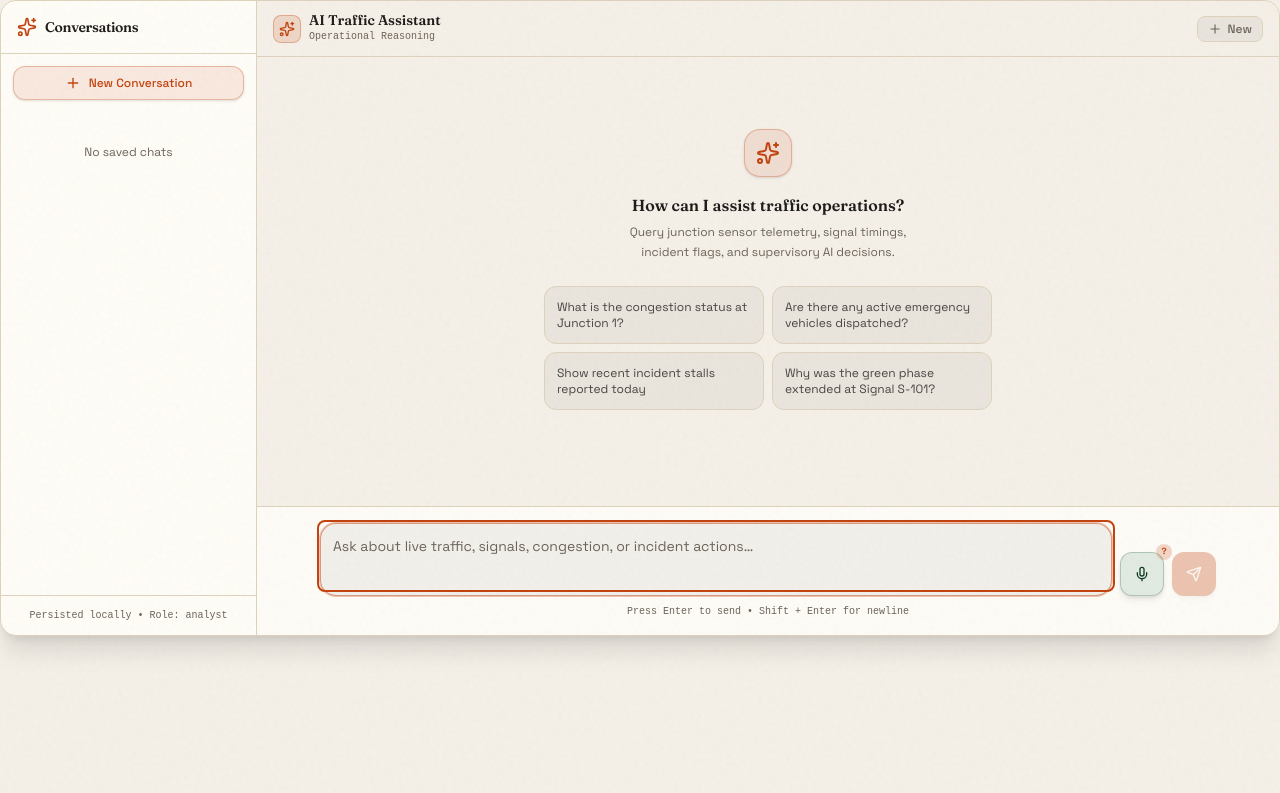
Test: AssistantChat Component (assistant.test.tsx) › renders suggested followups as clickable chips that send inquiries when clicked
The width and height of the screenshot is (1280, 793).
Replace the text in the text box with test id "assistant-composer-textarea" with "Initial query" at (716, 556), box [321,524,1111,588]
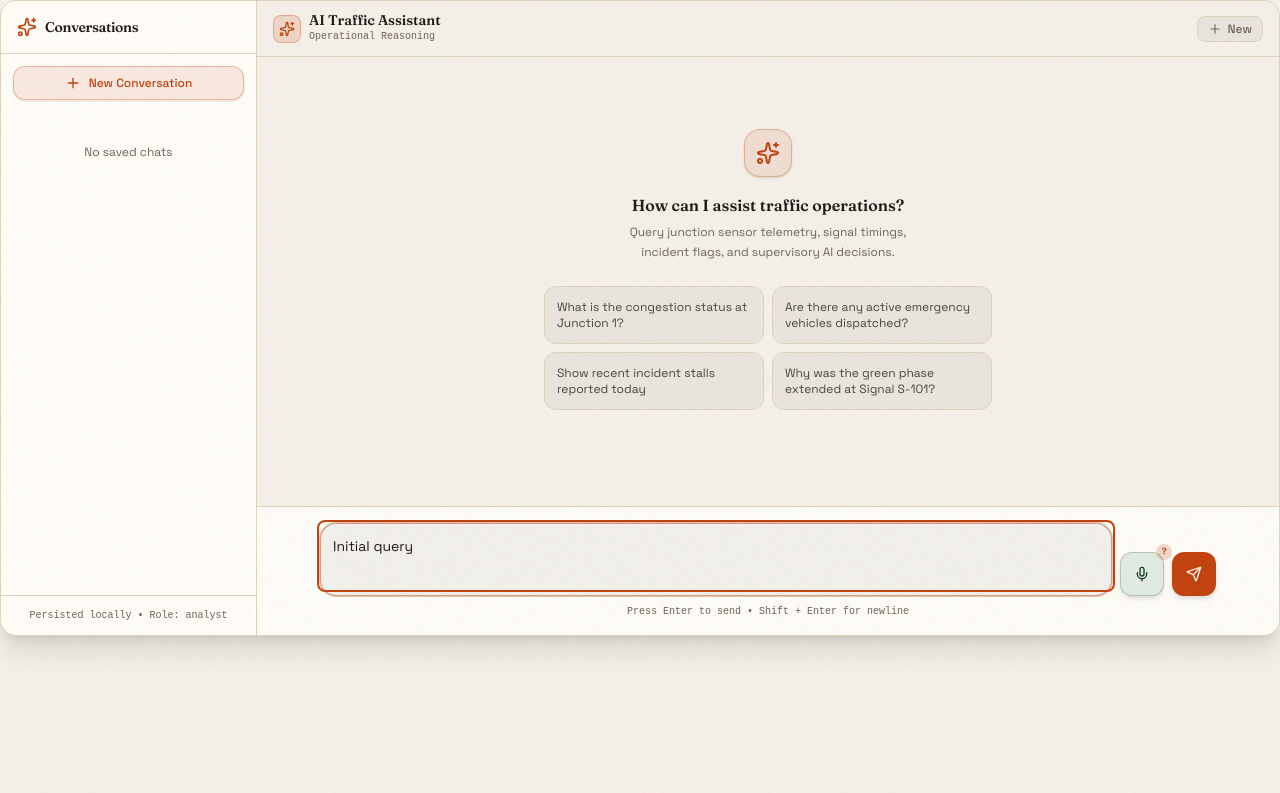
Click the button with test id "assistant-send-button" at (1194, 574), box [1172,552,1216,596]
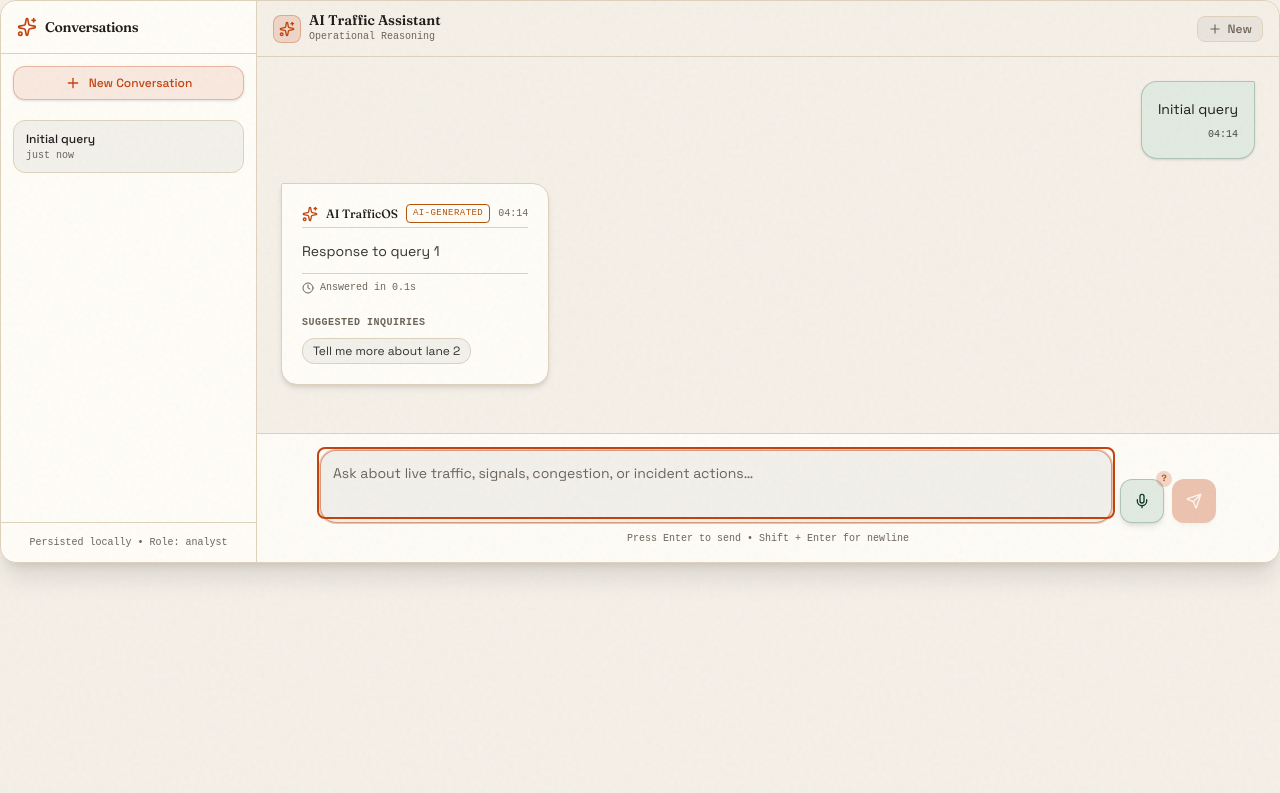
Expected: the button with test id "suggested-followup-0" is shown
Expected: the button with test id "suggested-followup-0" reads "Tell me more about lane 2"
Note: Click followup chip
Click the button with test id "suggested-followup-0" at (387, 351), box [302,338,471,364]
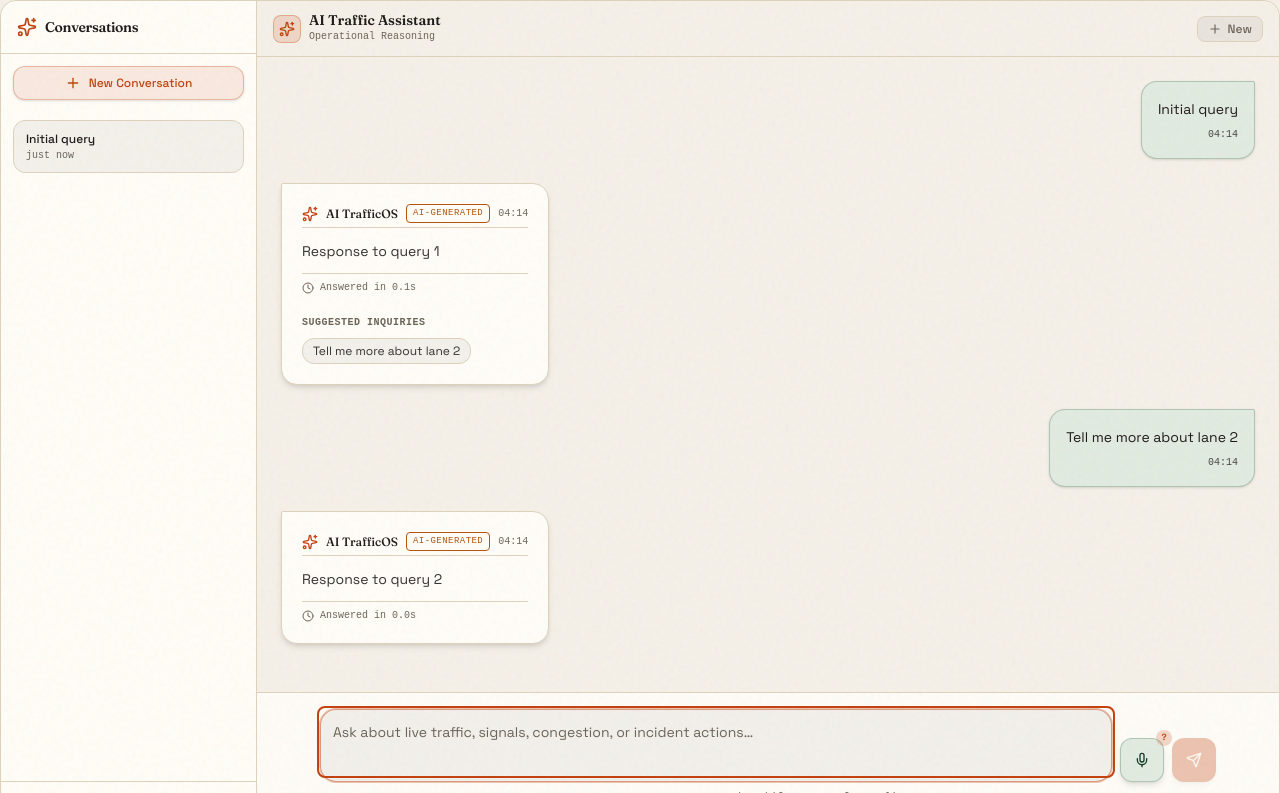
Expected: the text "Response to query 2" is shown, [302,570,442,588]
